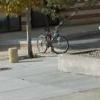Bicycle: (34, 28, 70, 59)
